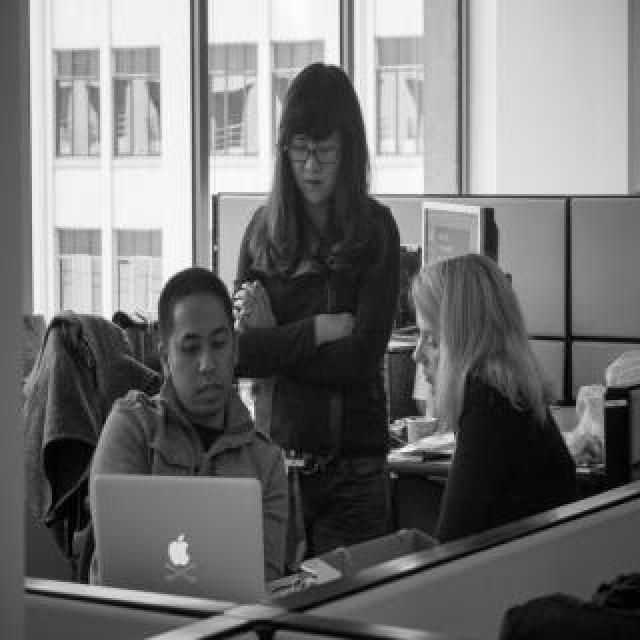laptop_computer: (75, 460, 280, 622)
